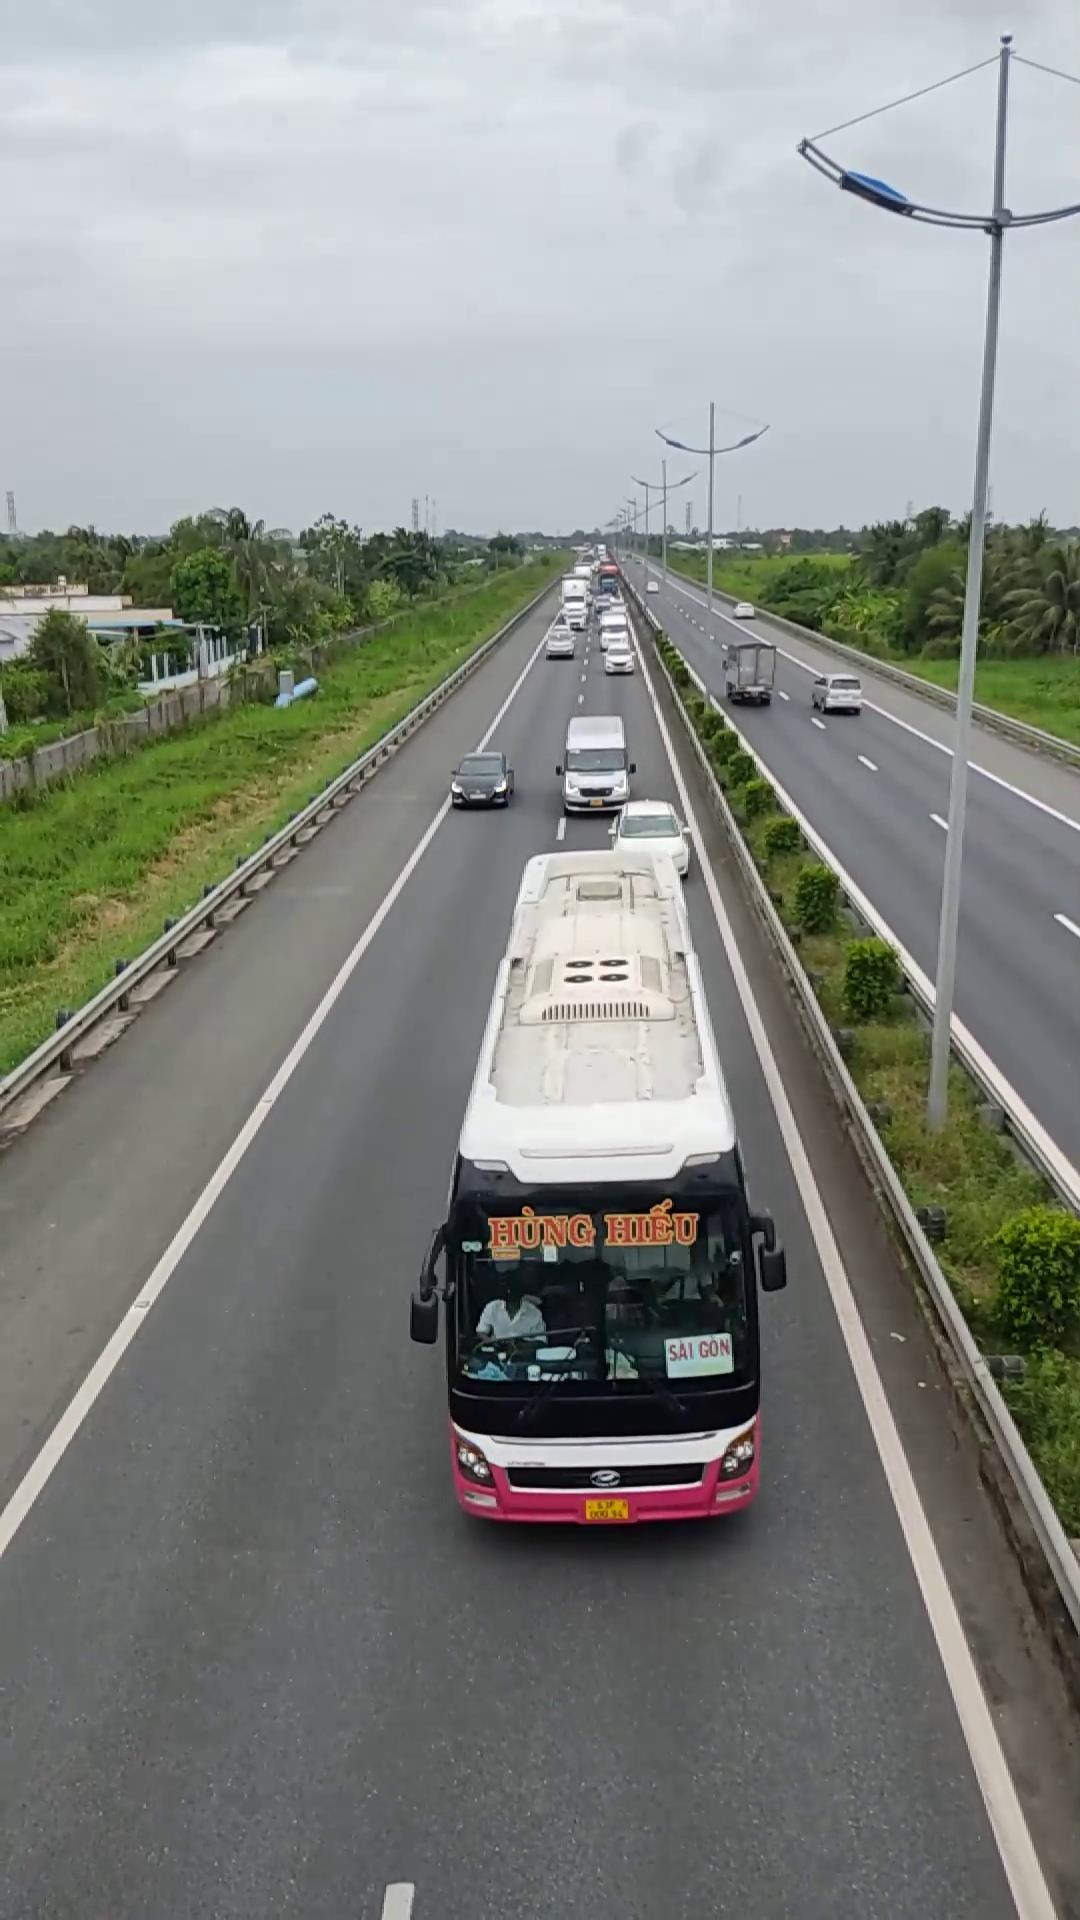bus: (412, 814, 780, 1526)
car: (558, 713, 634, 815)
